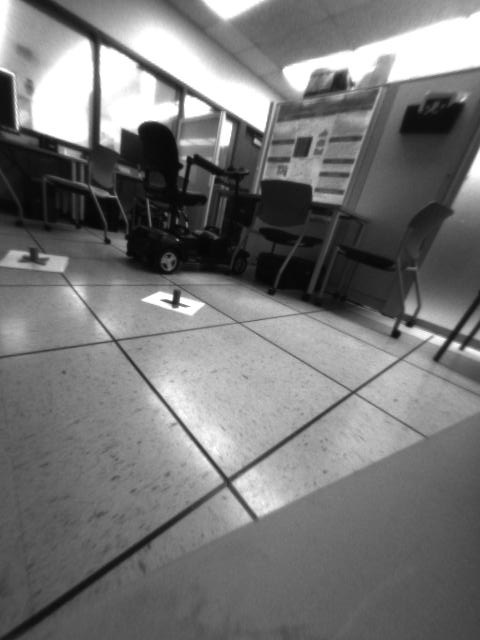X: (15, 242, 50, 267), (157, 287, 190, 309)
